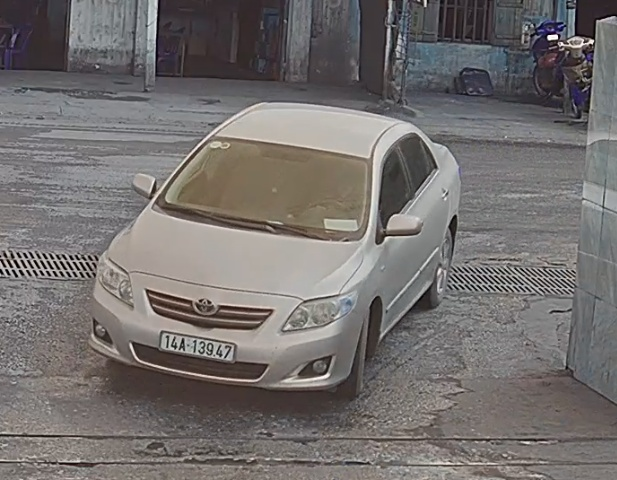vehicle plate: (156, 328, 248, 366)
